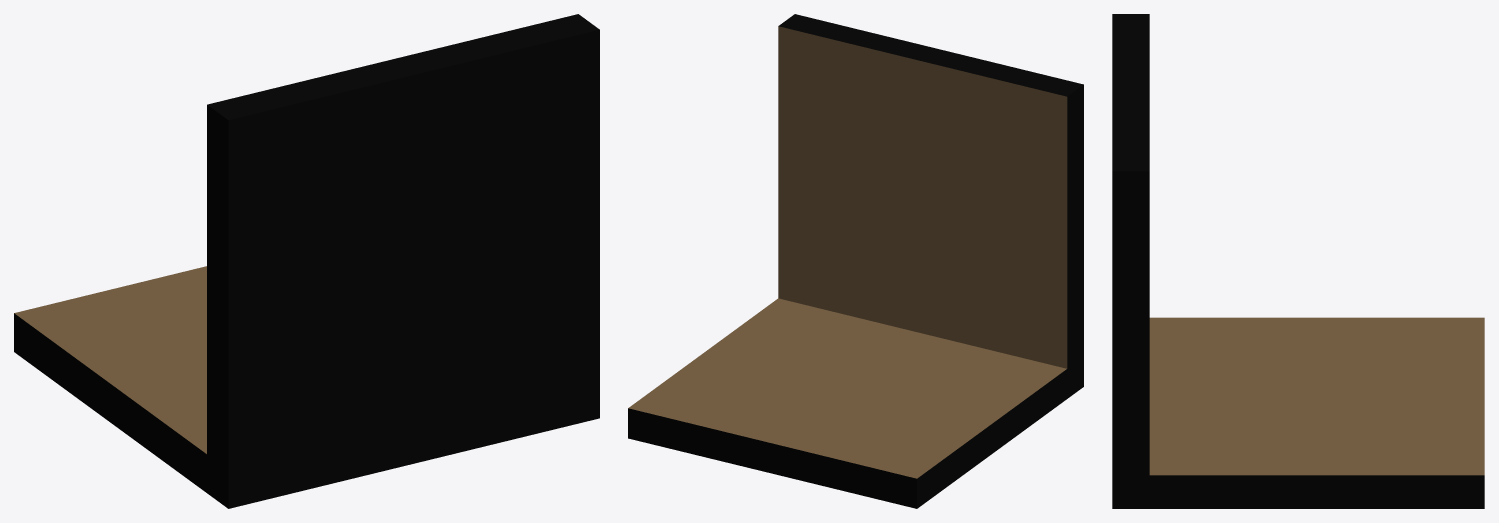
The model's file is M_Corner_Int_2x2.fbx.
3 views of the same model, side by side, from view 1: azimuth 30°, elevation 25°; view 2: azimuth 150°, elevation 25°; view 3: azimuth 270°, elevation 25° (orthographic). The views are drawn at different scales.
Parts seen in each view (by area): view 1: M_Corner_Int_2x2; view 2: M_Corner_Int_2x2; view 3: M_Corner_Int_2x2.
Boxes of the visible parts, x1=… form: M_Corner_Int_2x2: x1=14, y1=14, x2=599, y2=508; M_Corner_Int_2x2: x1=628, y1=14, x2=1083, y2=508; M_Corner_Int_2x2: x1=1112, y1=14, x2=1484, y2=508.
Bounding box in the file's own units: 200 × 200 × 200.
